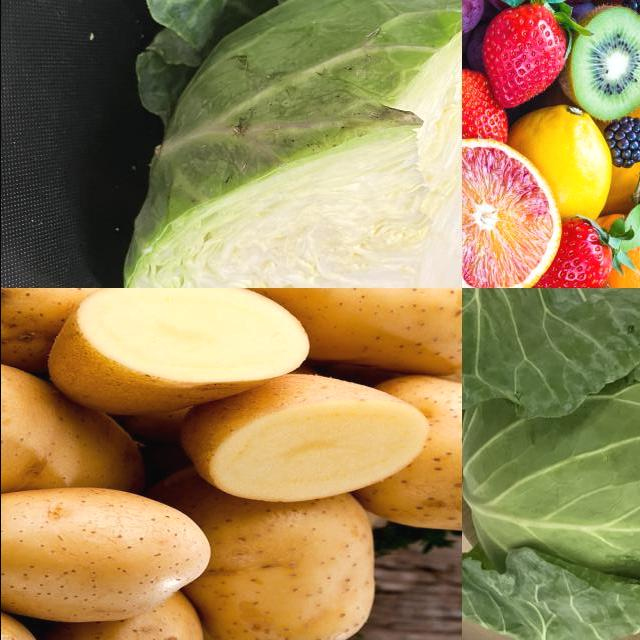cabbage: (115, 1, 462, 289), (462, 289, 640, 640)
potato: (45, 289, 310, 415), (184, 377, 425, 503), (1, 486, 214, 626), (186, 493, 376, 640), (205, 289, 462, 376), (1, 289, 215, 368), (364, 375, 462, 532)
